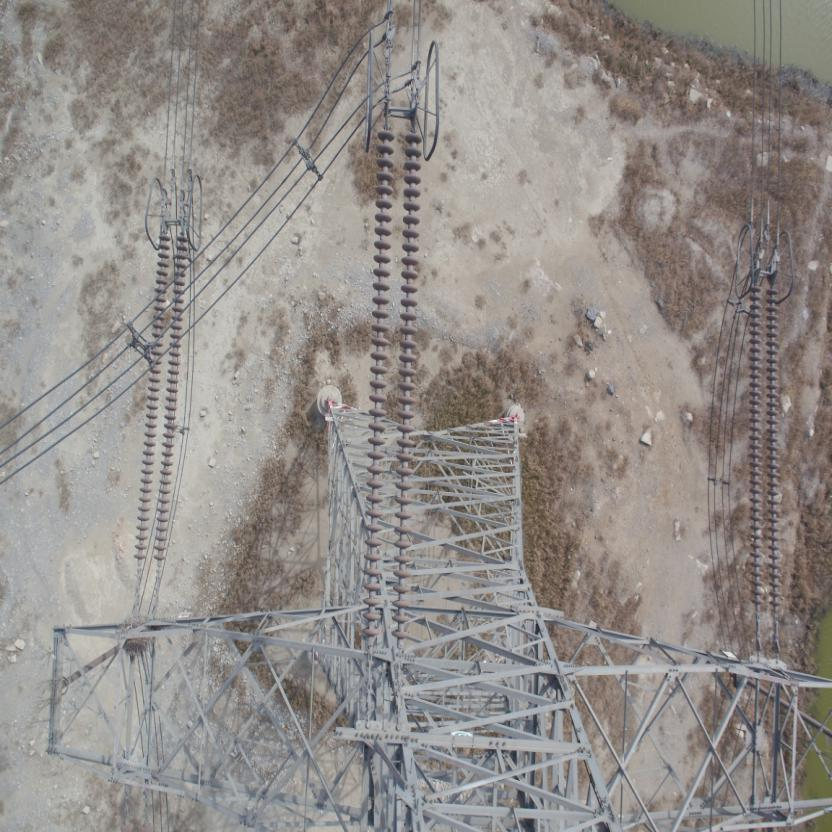insulator: (360, 112, 425, 650), (130, 223, 197, 590), (743, 275, 780, 622)
